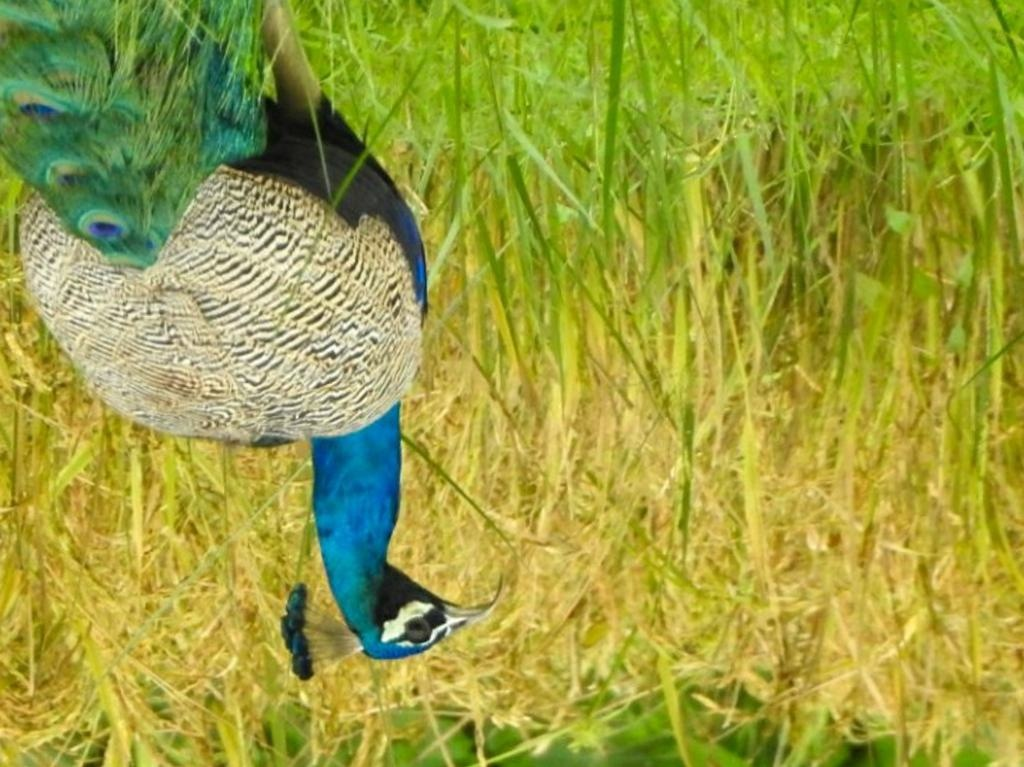peacock: (34, 1, 520, 649)
